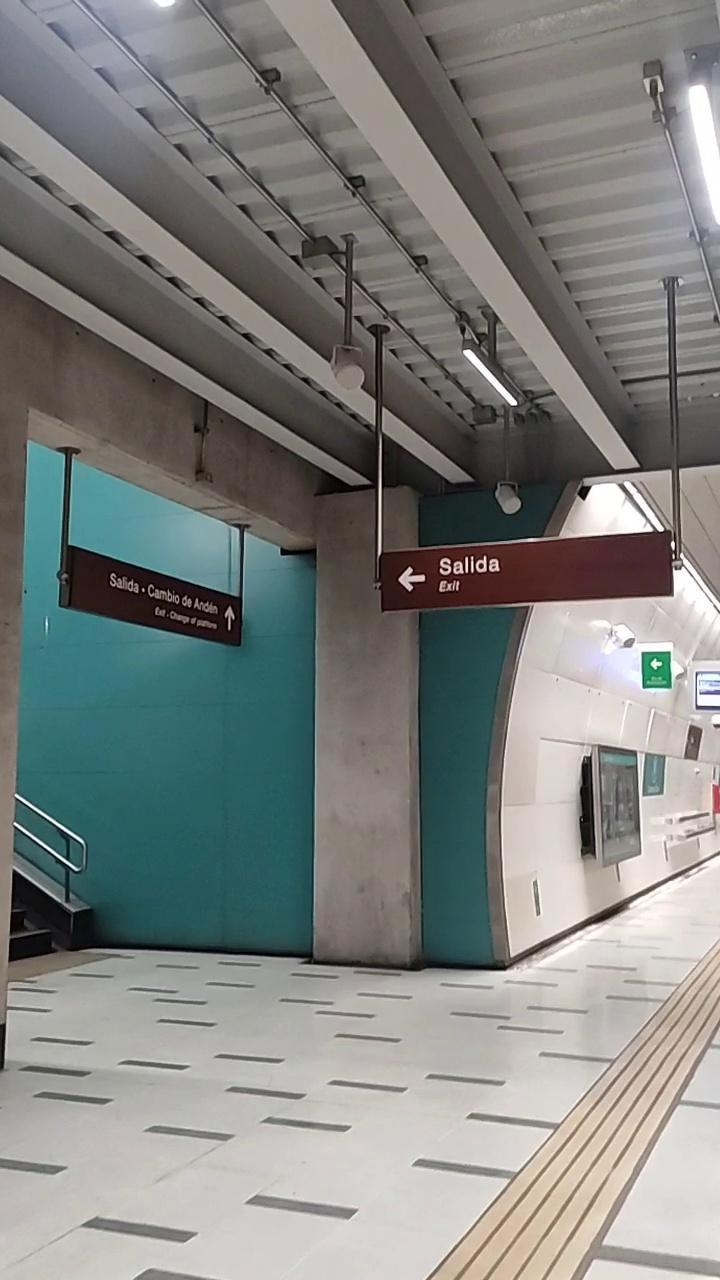left arrow: (396, 566, 427, 592)
up arrow: (224, 604, 236, 631)
